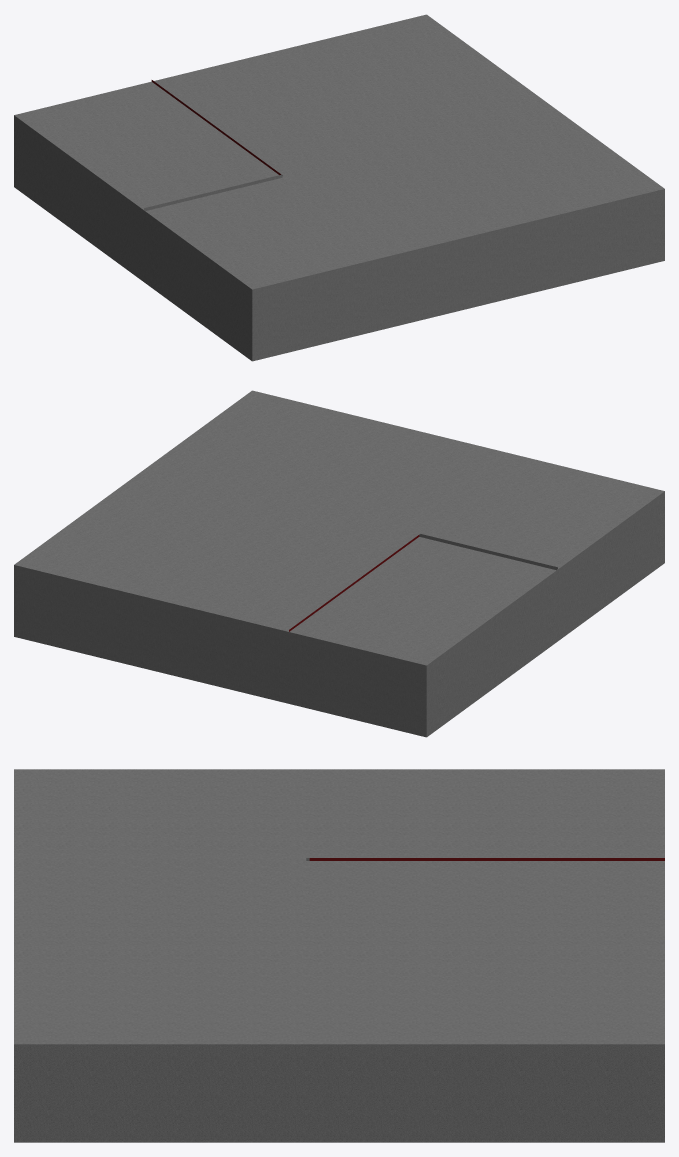
Rendered from M_Tkuangjia01.FBX.
3 renders of one model, top to bottom at view 1: azimuth 30°, elevation 25°; view 2: azimuth 150°, elevation 25°; view 3: azimuth 270°, elevation 25°, orthographic. The views are drawn at different scales.
Visible parts, largest first — view 1: M_Tkuangjia01_01; view 2: M_Tkuangjia01_01; view 3: M_Tkuangjia01_01, M_Tkuangjia01_02.
Boxes of the visible parts, box(x1,y1,x2,y2) form: M_Tkuangjia01_01: box(14, 14, 664, 361); M_Tkuangjia01_01: box(14, 390, 664, 737); M_Tkuangjia01_01: box(14, 769, 664, 1142); M_Tkuangjia01_02: box(309, 858, 664, 860).
Bounding box in the file's own units: 30 × 5.15 × 30.
